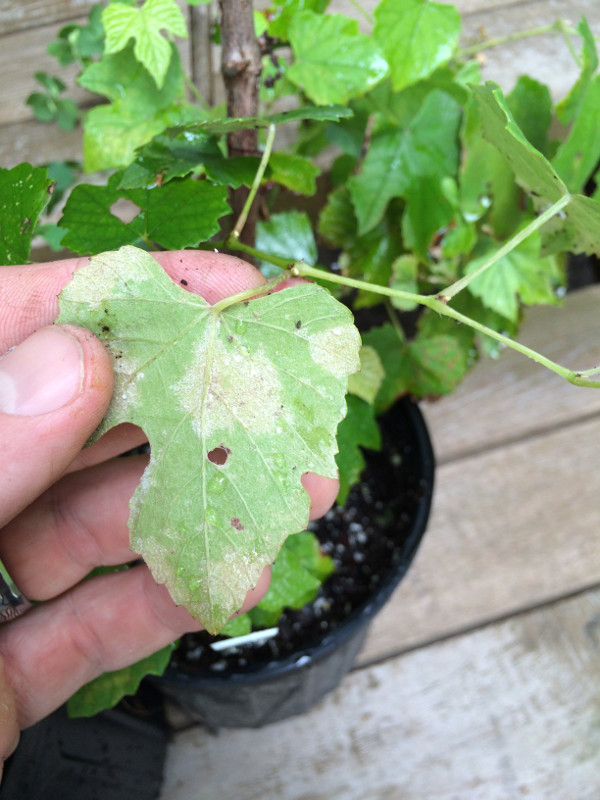downy: (181, 323, 299, 441), (76, 251, 147, 322), (200, 538, 257, 595), (303, 321, 359, 377), (256, 495, 297, 536), (143, 539, 179, 575)
